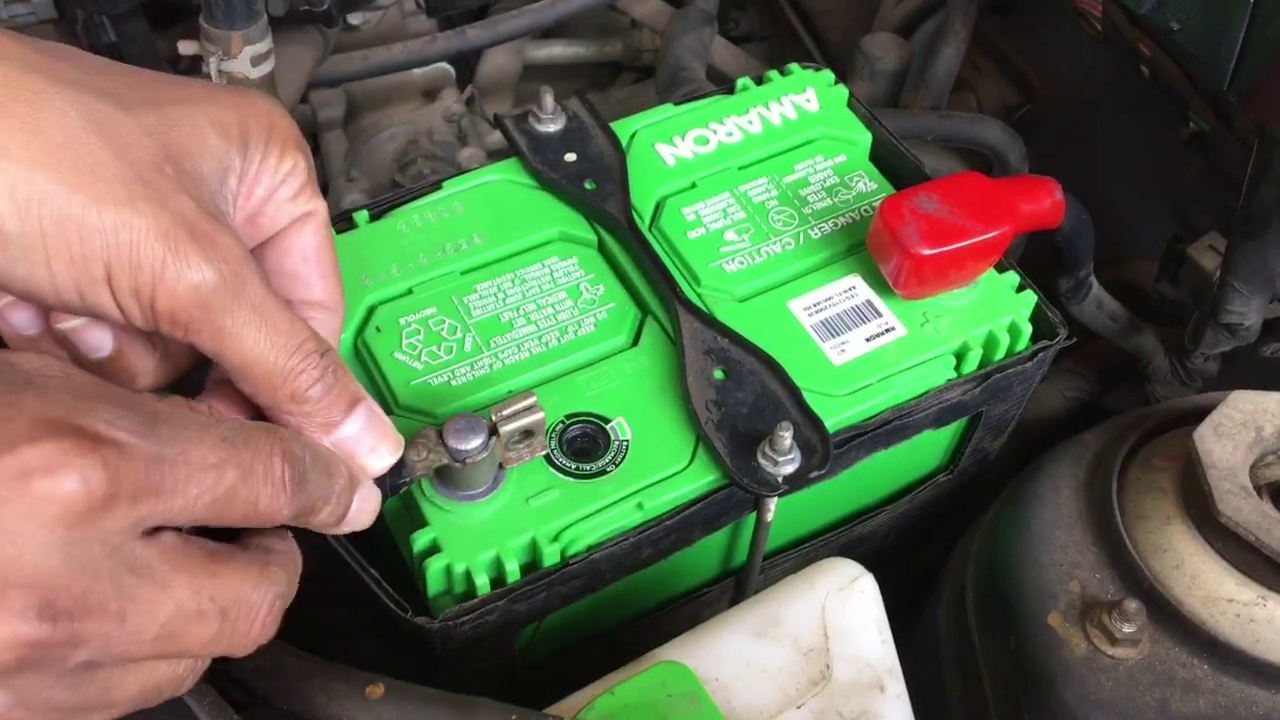battery: (285, 76, 1031, 579)
neg_connected: (329, 369, 585, 522)
neg_touched: (172, 262, 576, 569)
pos_connected: (839, 130, 1094, 302)
